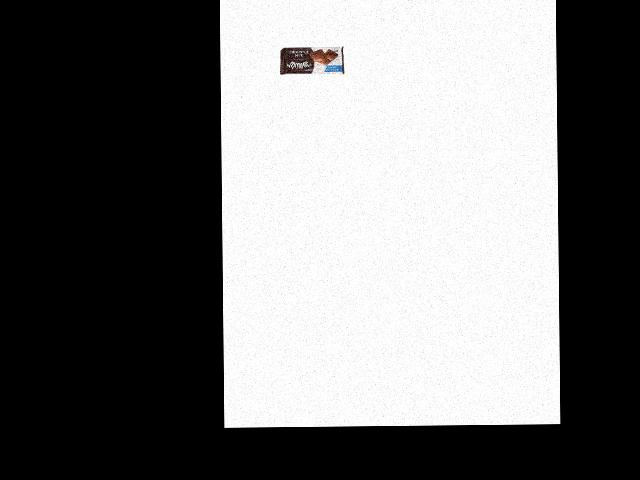chocolate: (280, 45, 344, 76)
